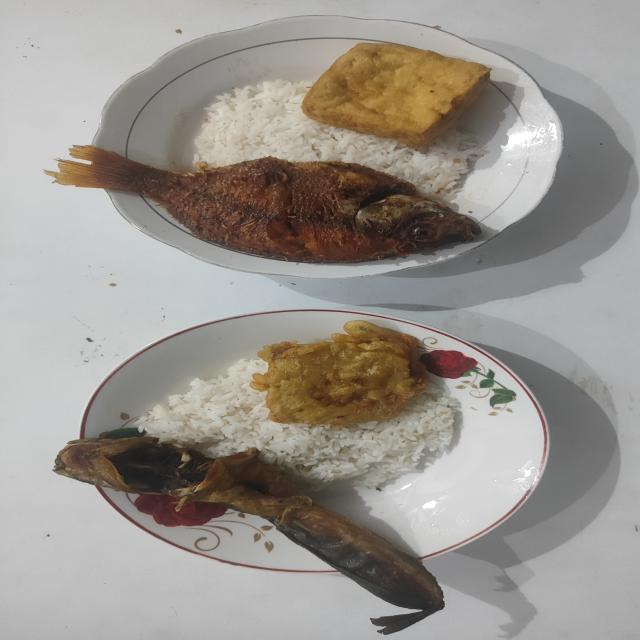ikan_mujair: (47, 146, 480, 263)
nasi_putih: (139, 355, 461, 488), (193, 80, 484, 207)
tahu_goreng: (302, 44, 489, 148)
